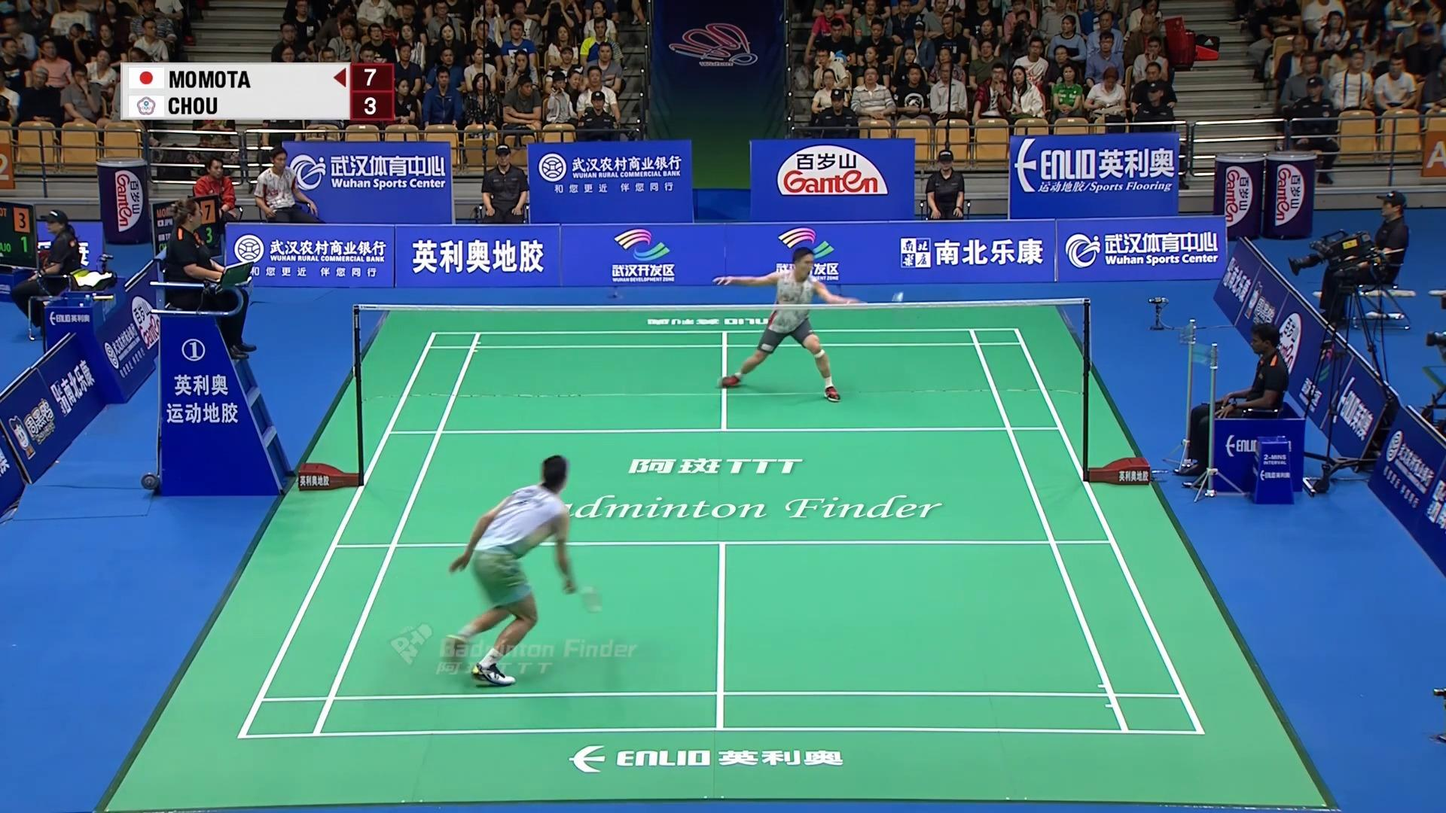player: (445, 455, 575, 685), (714, 246, 855, 402)
shuttlecock: (892, 291, 905, 303)
